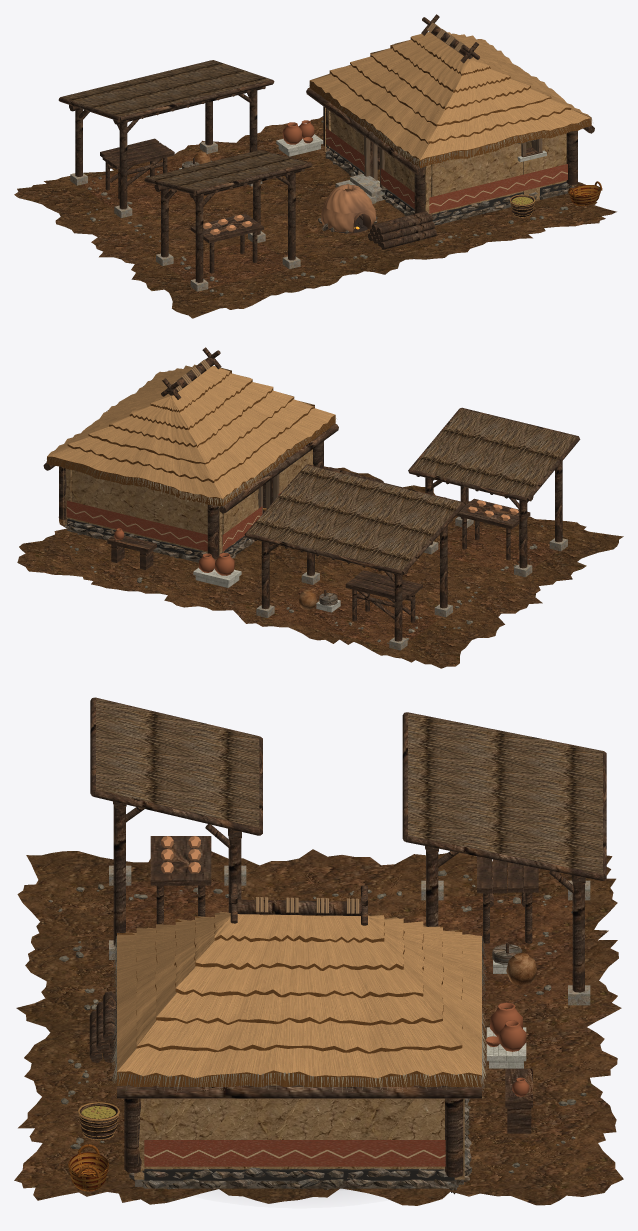
File: bakery.glb
The picture shows the model from 3 angles, top to bottom: view 1: azimuth 30°, elevation 25°; view 2: azimuth 150°, elevation 25°; view 3: azimuth 270°, elevation 25°; orthographic projection. The views are drawn at different scales.
Parts seen in each view (by area): view 1: part_1, part_23, part_8, part_13, part_5, part_11, part_24, part_28, part_18, part_4, part_12, part_26 (+6 smaller); view 2: part_1, part_13, part_23, part_8, part_11, part_5, part_24, part_28, part_4, part_12, part_26, part_7 (+2 smaller); view 3: part_1, part_23, part_13, part_8, part_5, part_11, part_24, part_28, part_4, part_26, part_27, part_14 (+8 smaller).
Boxes of the visible parts, left/top/right/bottom form: part_1: left=14, top=116, right=616, bottom=318; part_23: left=310, top=32, right=590, bottom=159; part_8: left=58, top=14, right=594, bottom=282; part_13: left=61, top=60, right=307, bottom=190; part_5: left=325, top=108, right=576, bottom=215; part_11: left=80, top=151, right=288, bottom=288; part_24: left=309, top=37, right=591, bottom=168; part_28: left=326, top=128, right=567, bottom=213; part_18: left=321, top=184, right=376, bottom=233; part_4: left=182, top=148, right=574, bottom=233; part_12: left=70, top=141, right=384, bottom=291; part_26: left=310, top=43, right=592, bottom=168; part_1: left=17, top=466, right=623, bottom=668; part_13: left=247, top=409, right=576, bottom=570; part_23: left=47, top=364, right=334, bottom=498; part_8: left=43, top=347, right=580, bottom=641; part_11: left=269, top=525, right=557, bottom=646; part_5: left=63, top=449, right=313, bottom=560; part_24: left=47, top=370, right=335, bottom=506; part_28: left=66, top=492, right=281, bottom=551; part_4: left=64, top=521, right=337, bottom=605; part_12: left=256, top=516, right=567, bottom=650; part_26: left=46, top=379, right=336, bottom=507; part_7: left=193, top=567, right=340, bottom=612; part_1: left=14, top=849, right=623, bottom=1205; part_23: left=117, top=911, right=481, bottom=1078; part_13: left=96, top=698, right=602, bottom=873; part_8: left=89, top=697, right=606, bottom=1177; part_5: left=134, top=1083, right=464, bottom=1179; part_11: left=126, top=881, right=572, bottom=1003; part_24: left=117, top=914, right=481, bottom=1086; part_28: left=144, top=1140, right=445, bottom=1166; part_4: left=129, top=944, right=522, bottom=1194; part_26: left=111, top=934, right=487, bottom=1092; part_27: left=144, top=1169, right=463, bottom=1184; part_14: left=485, top=1002, right=529, bottom=1096.
Size of the model in its own units: 9.39 by 2.96 by 6.6.
Materials: 29 (18 with a texture image).
